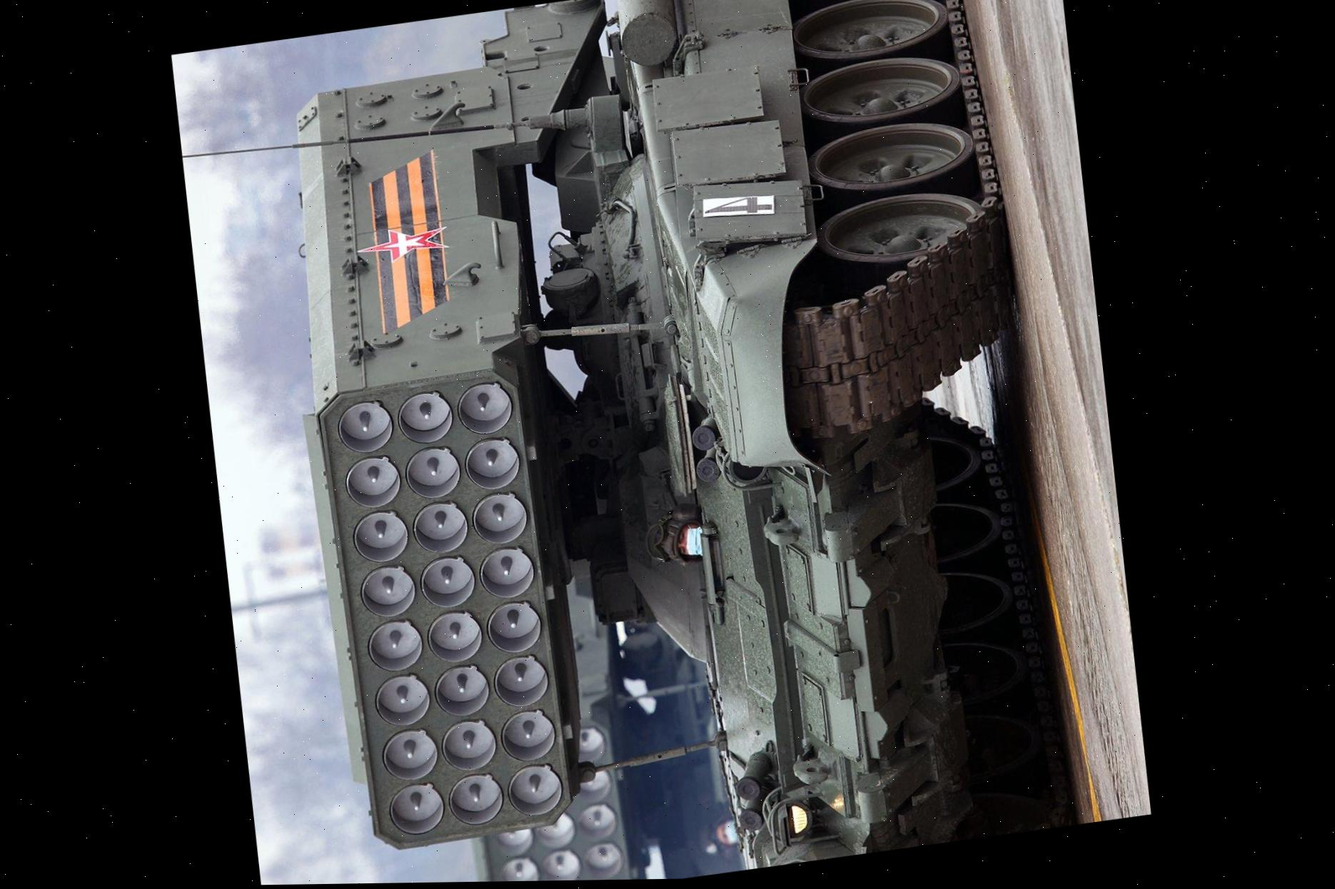rszo: (232, 0, 1137, 885), (426, 710, 1021, 882)
